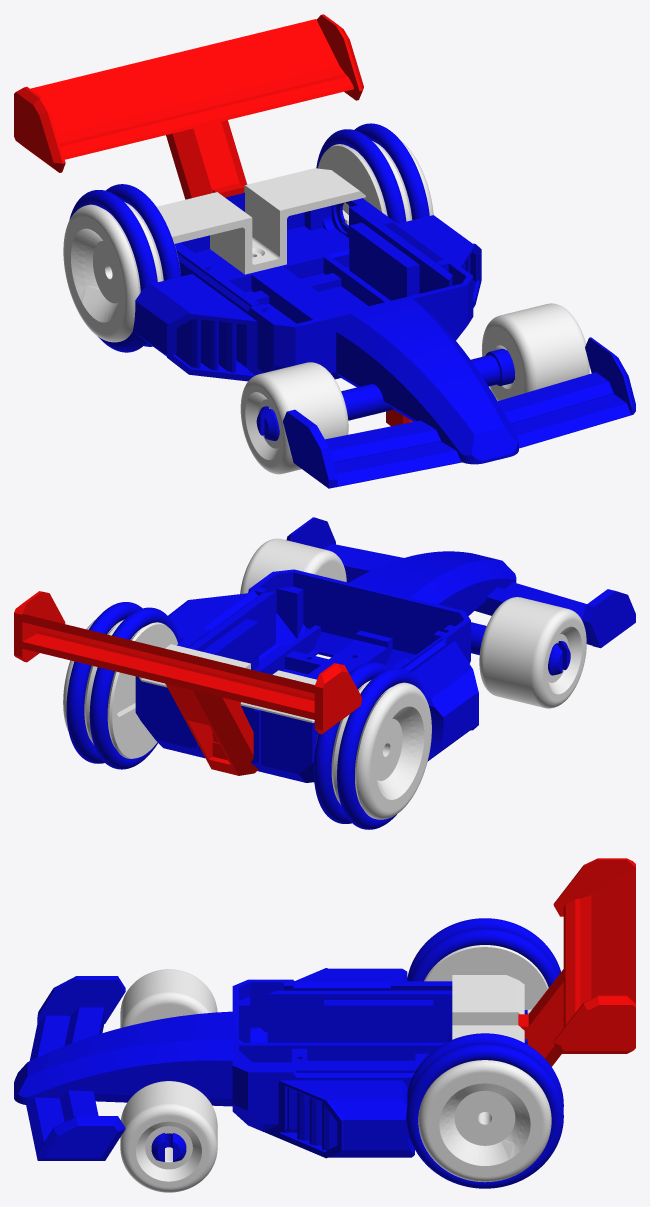
Rendered from Bottom_F1.glb.
3 views of the same model, one above another, from view 1: azimuth 30°, elevation 25°; view 2: azimuth 150°, elevation 25°; view 3: azimuth 270°, elevation 25° (orthographic). The views are drawn at different scales.
Parts seen in each view (by area): view 1: Node1, Node2, Node3; view 2: Node1, Node2, Node3; view 3: Node1, Node2, Node3.
Part boxes in pixels (x1,y1,x2,y2): Node1: (69, 123, 635, 488); Node2: (63, 141, 589, 474); Node3: (14, 14, 413, 426); Node1: (66, 517, 635, 829); Node2: (63, 538, 586, 819); Node3: (14, 591, 362, 775); Node1: (14, 918, 563, 1188); Node2: (120, 945, 551, 1192); Node3: (518, 858, 635, 1066).
Bounding box in the file's own units: 113 × 71.7 × 205.
